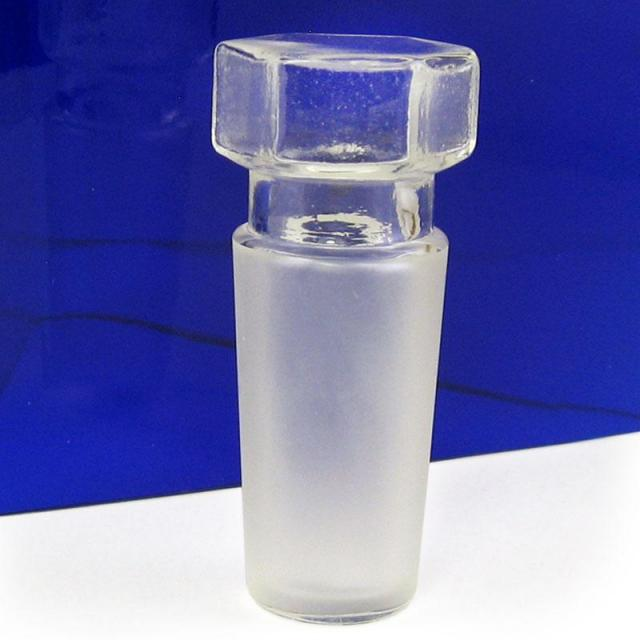non-organic waste: (197, 29, 487, 628)
